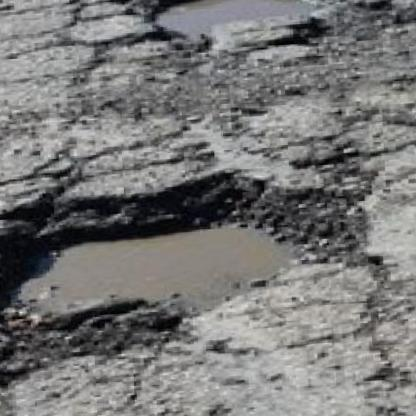pothole: (0, 158, 381, 378), (123, 0, 369, 54)
